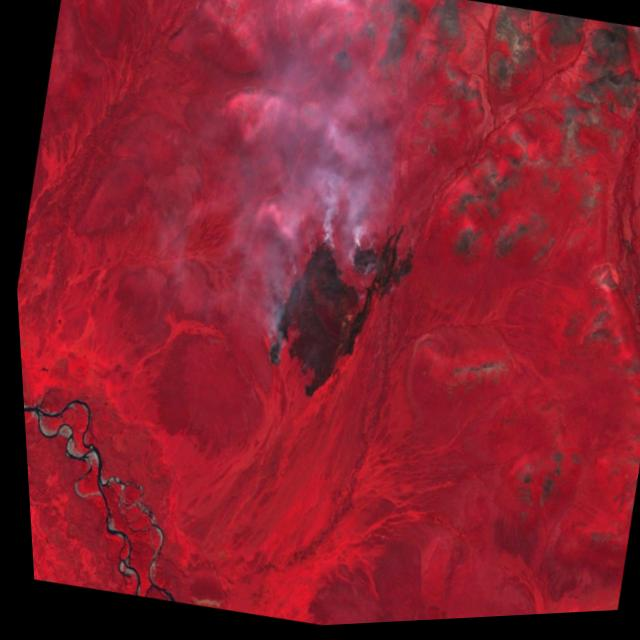fire: (243, 218, 389, 419)
